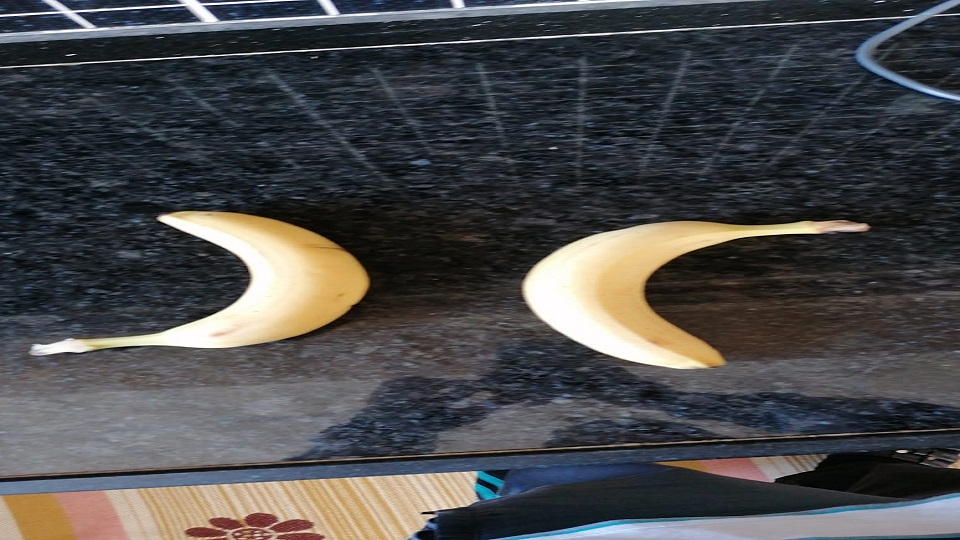muz: (519, 218, 871, 373), (30, 206, 372, 358)
